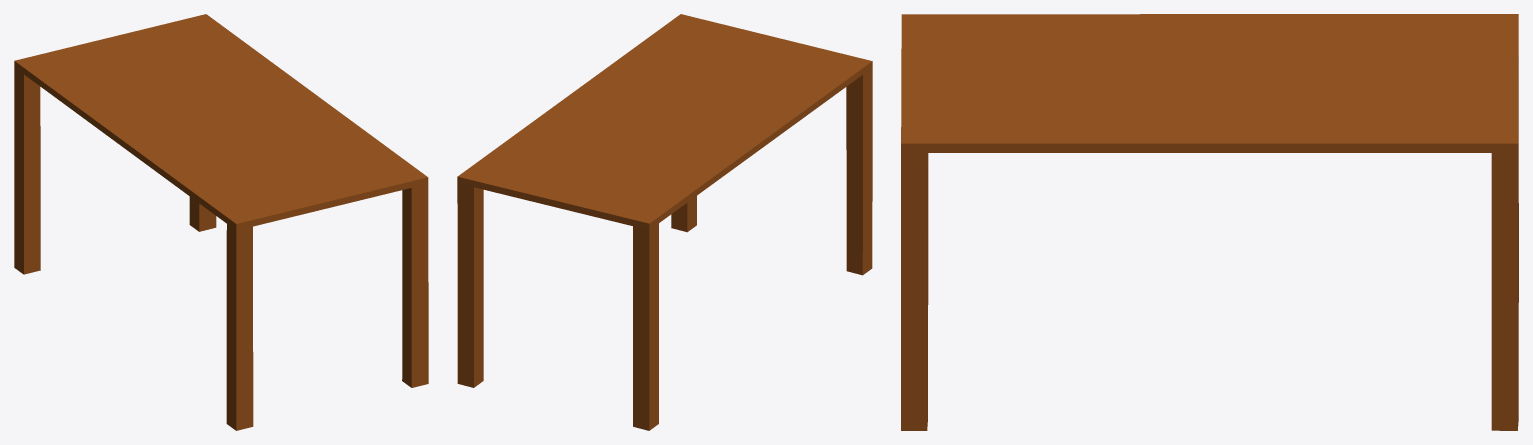
Rendered from MesaComedor.fbx.
The picture shows the model from 3 angles, left to right: view 1: azimuth 30°, elevation 25°; view 2: azimuth 150°, elevation 25°; view 3: azimuth 270°, elevation 25°; orthographic projection. The views are drawn at different scales.
Parts seen in each view (by area): view 1: Cube.007; view 2: Cube.007; view 3: Cube.007.
Boxes of the visible parts, x1=… form: Cube.007: x1=14, y1=14, x2=428, y2=430; Cube.007: x1=457, y1=14, x2=872, y2=430; Cube.007: x1=901, y1=14, x2=1518, y2=430.
Size of the model in its own units: 0.5265 by 0.5419 by 1.05.
